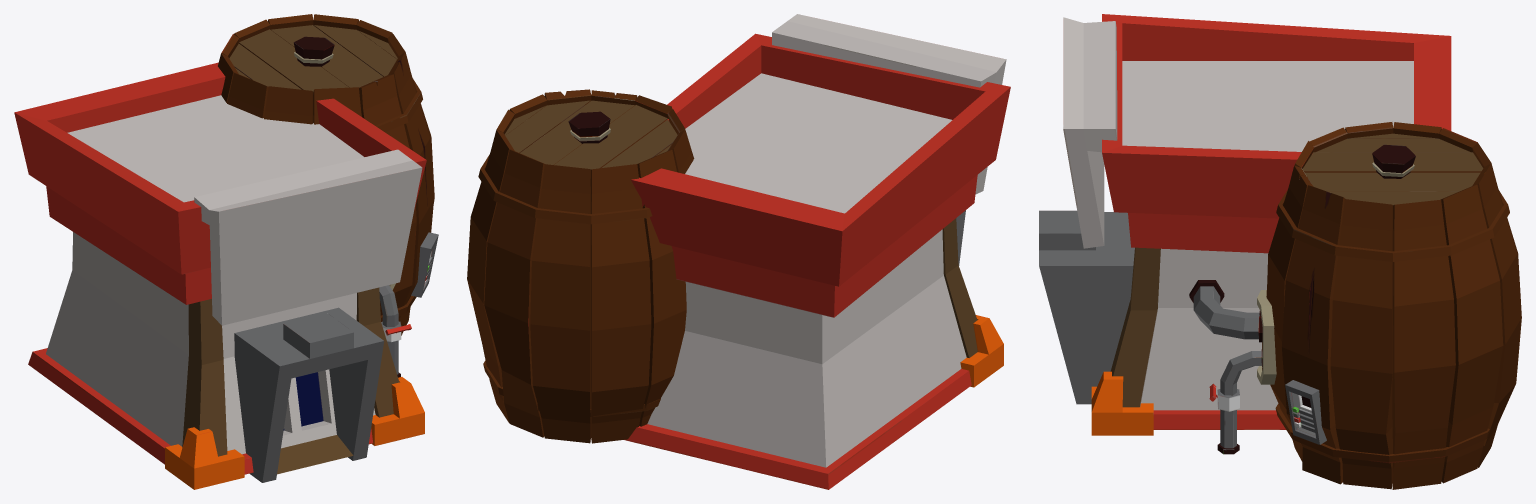
The picture shows the model from 3 angles, left to right: view 1: azimuth 30°, elevation 25°; view 2: azimuth 150°, elevation 25°; view 3: azimuth 270°, elevation 25°; orthographic projection. The views are drawn at different scales.
Parts seen in each view (by area): view 1: 立方体.001; view 2: 立方体.001; view 3: 立方体.001.
Boxes of the visible parts, <box> form: 立方体.001: <box>14,14,438,489</box>; 立方体.001: <box>467,14,1010,489</box>; 立方体.001: <box>1039,14,1521,489</box>.
Bounding box in the file's own units: 207 × 151 × 215.
